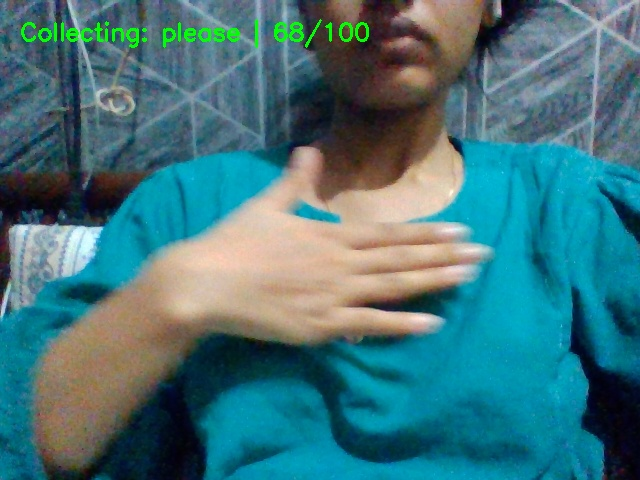please: (144, 127, 525, 378)
